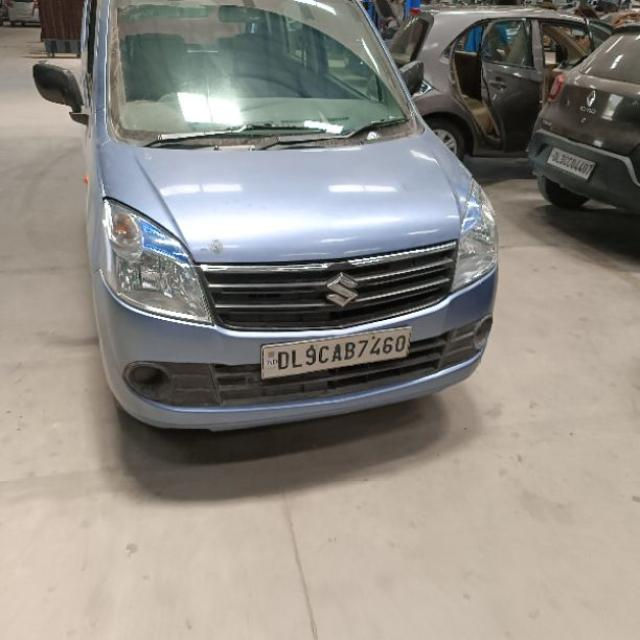license_plate: (259, 325, 412, 380), (545, 145, 595, 181)
